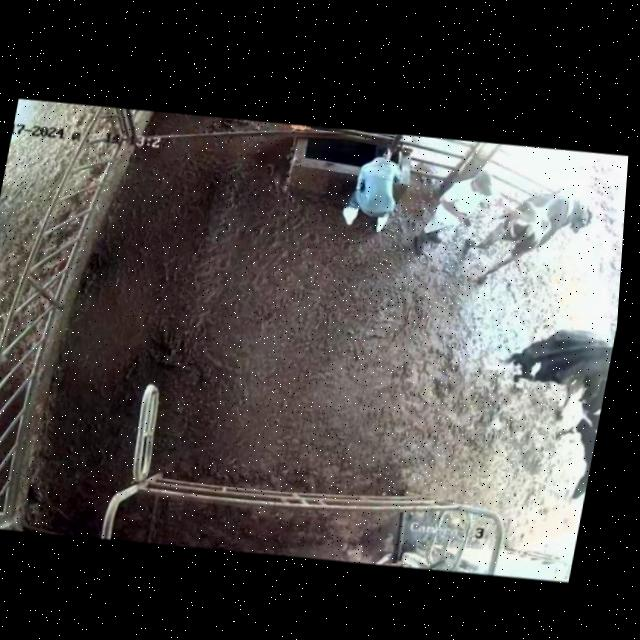ride: (492, 300, 619, 411)
stand: (479, 176, 600, 296), (555, 371, 608, 497)
